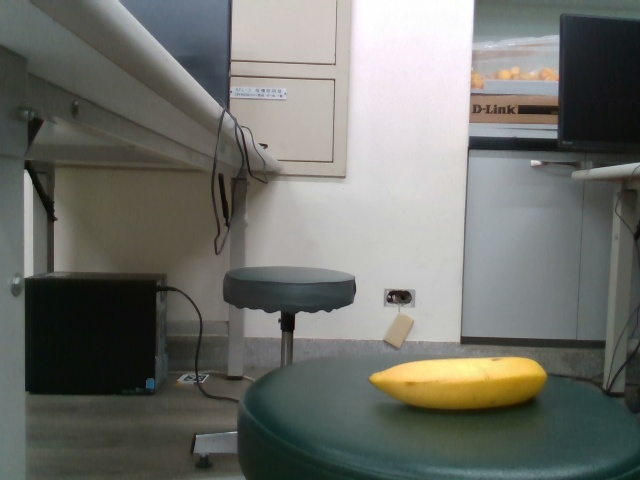banana: (366, 354, 551, 408)
